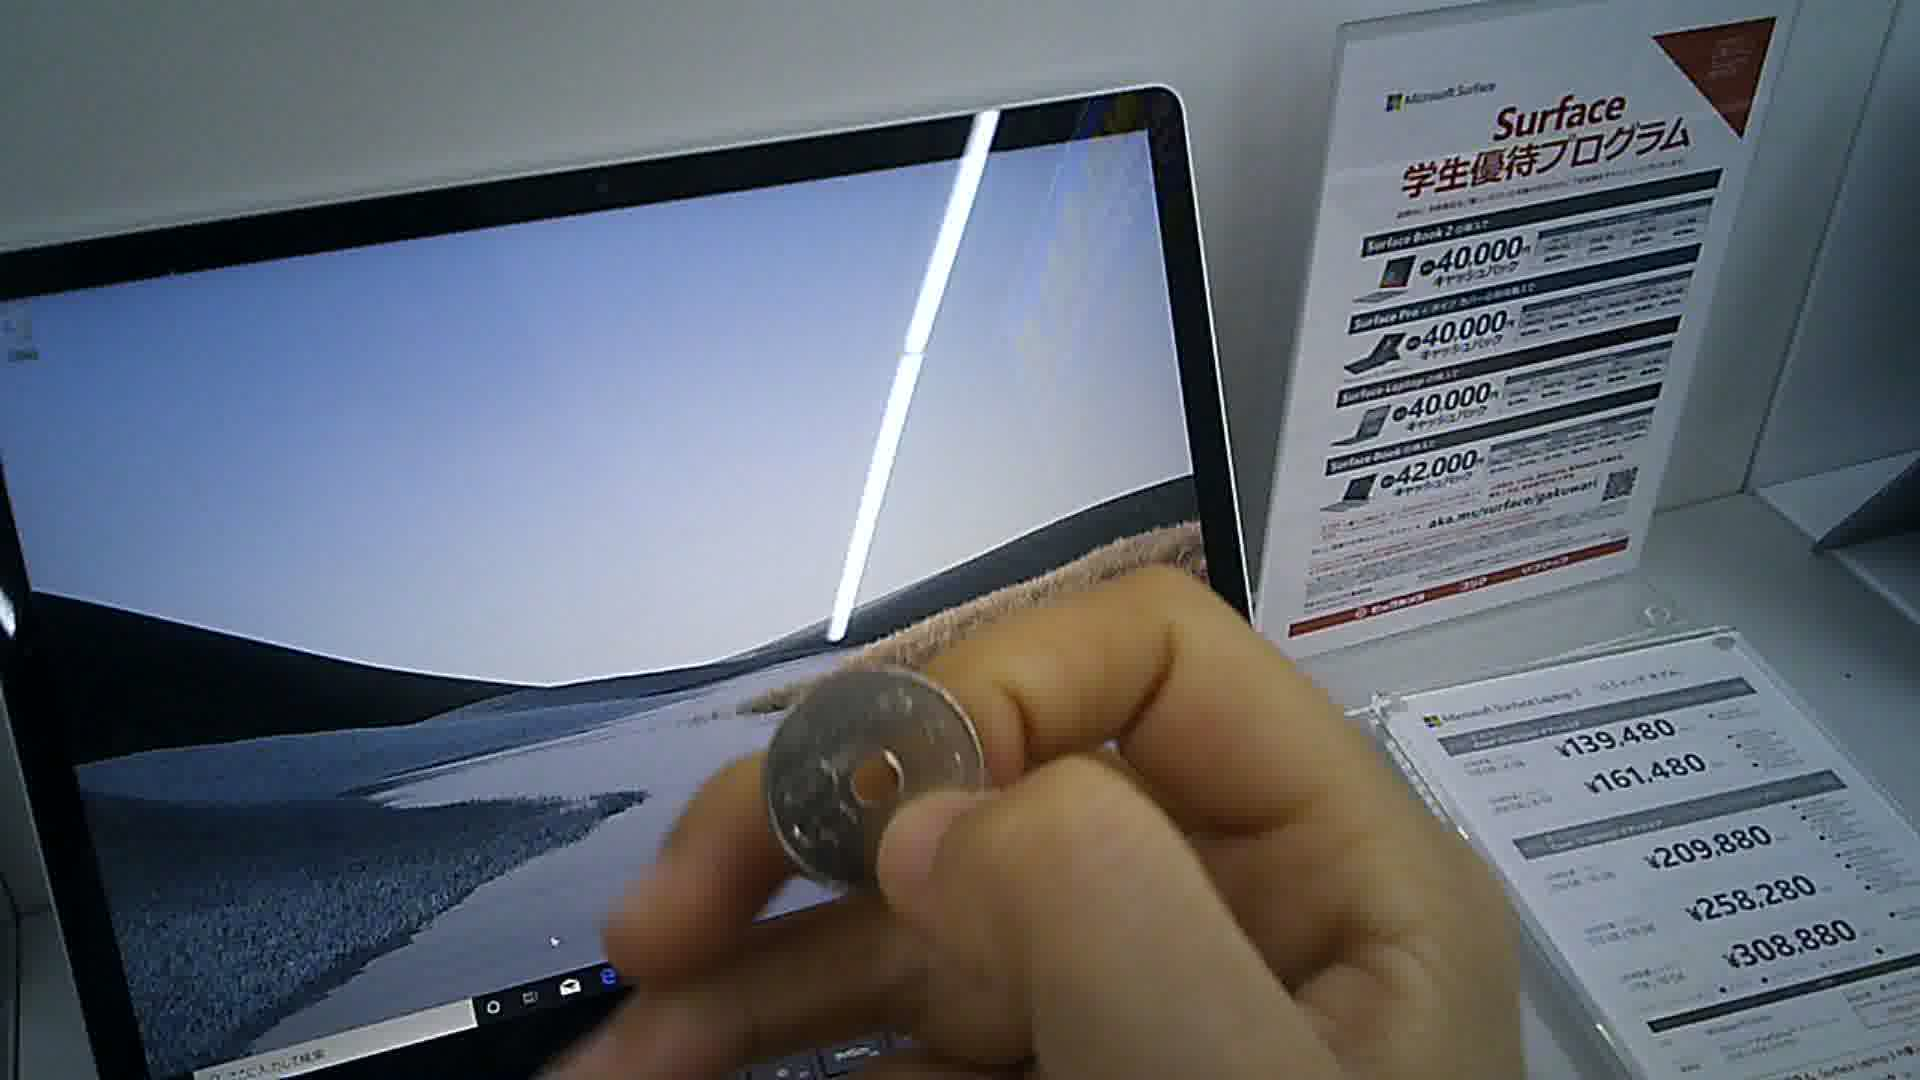50 Yen: (752, 663, 990, 895)
